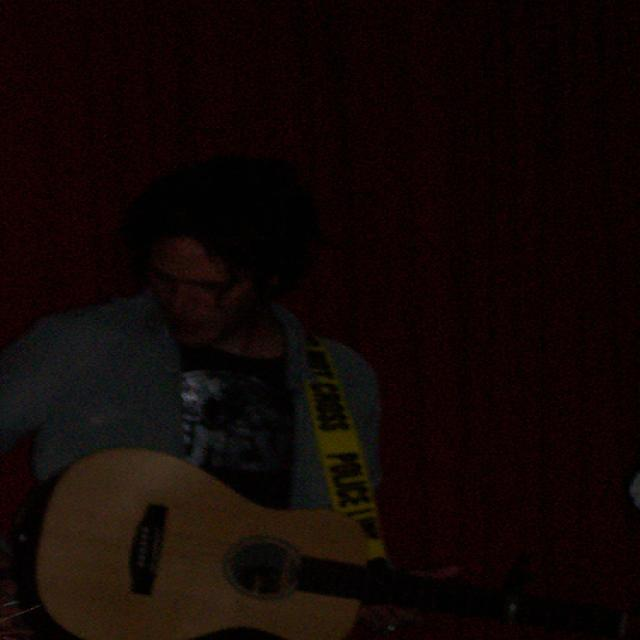person: (4, 161, 392, 640)
